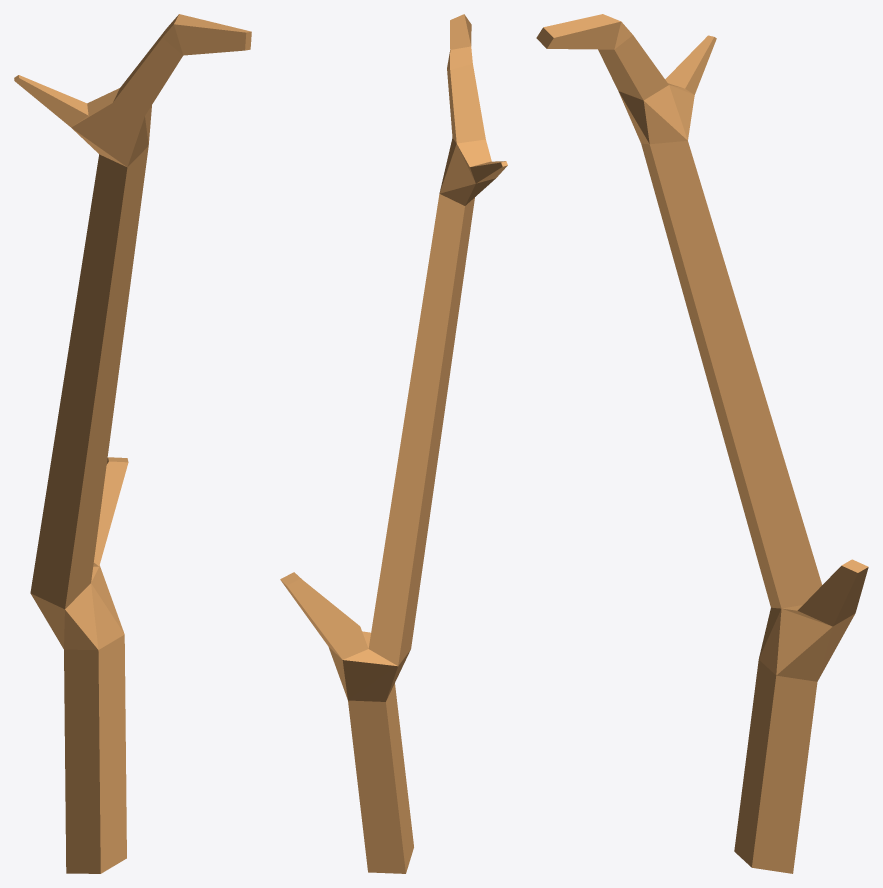
File: stick_02_palm.fbx
3 views of the same model, side by side, from view 1: azimuth 30°, elevation 25°; view 2: azimuth 150°, elevation 25°; view 3: azimuth 270°, elevation 25° (orthographic). The views are drawn at different scales.
Visible parts, largest first — view 1: Cube; view 2: Cube; view 3: Cube.
Part boxes in pixels (<box>): Cube: <box>14,14,251,873</box>; Cube: <box>280,14,507,873</box>; Cube: <box>536,14,868,873</box>.
Size of the model in its own units: 14.26 by 65.16 by 22.95.
